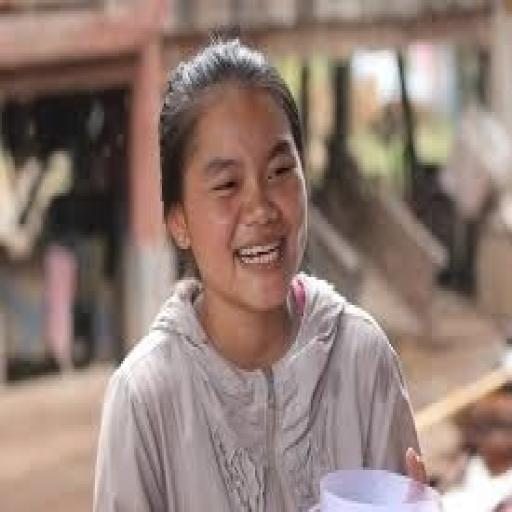laughing: (87, 31, 434, 506)
